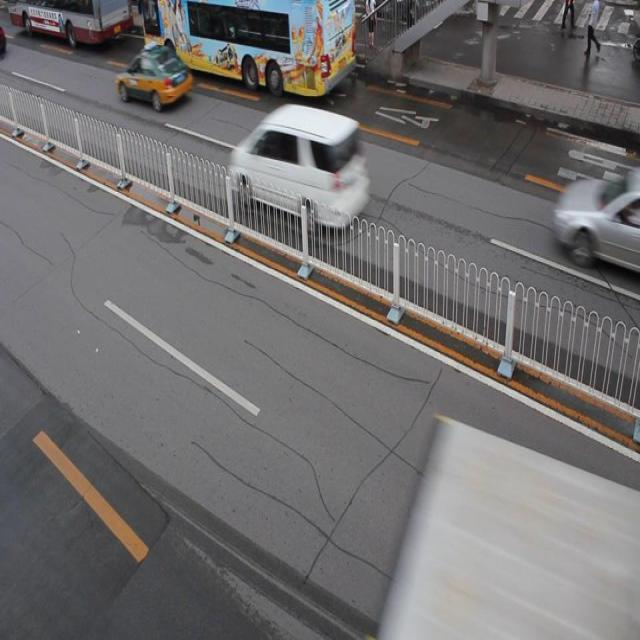car: (552, 167, 640, 272), (117, 44, 194, 110)
truck: (231, 103, 367, 234)
van: (385, 420, 639, 640), (140, 1, 354, 97), (10, 2, 134, 48)
